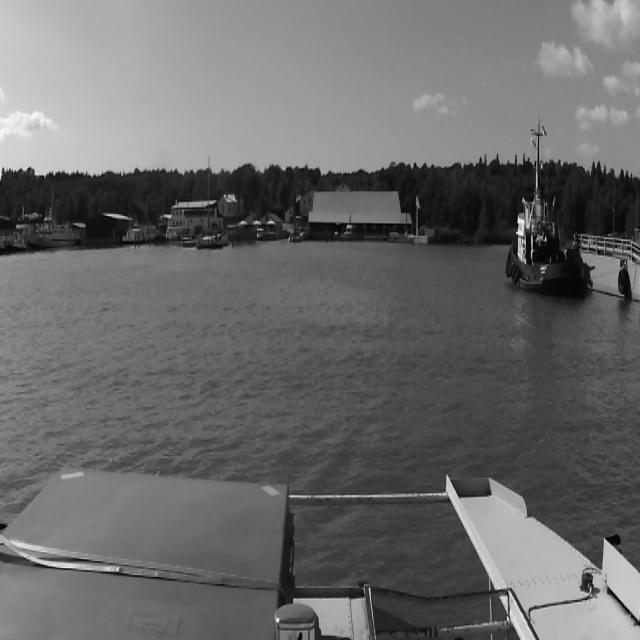ship: (506, 124, 596, 296), (201, 157, 231, 248), (29, 214, 85, 244), (345, 223, 353, 240)
